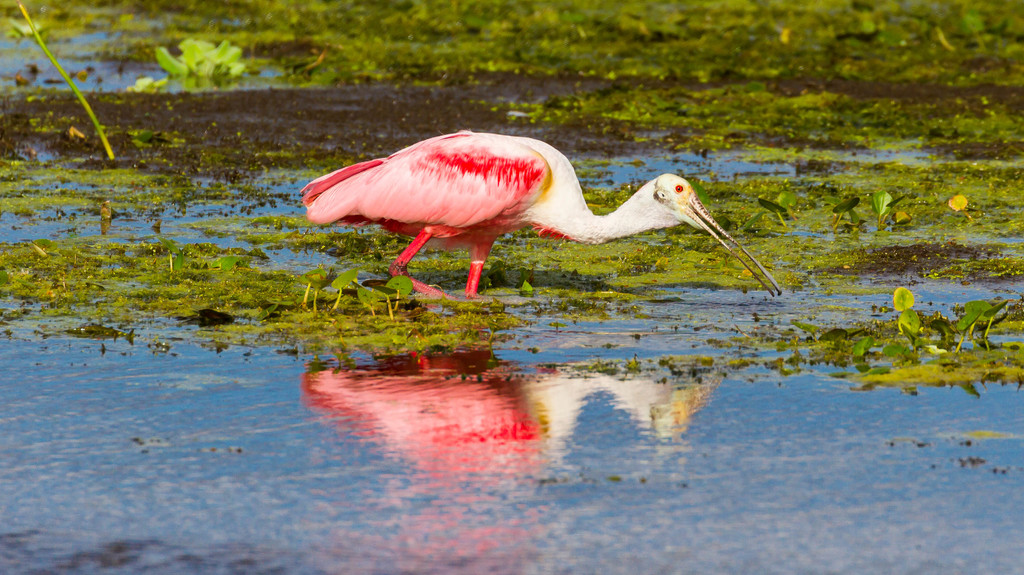Bird: (299, 129, 783, 302)
